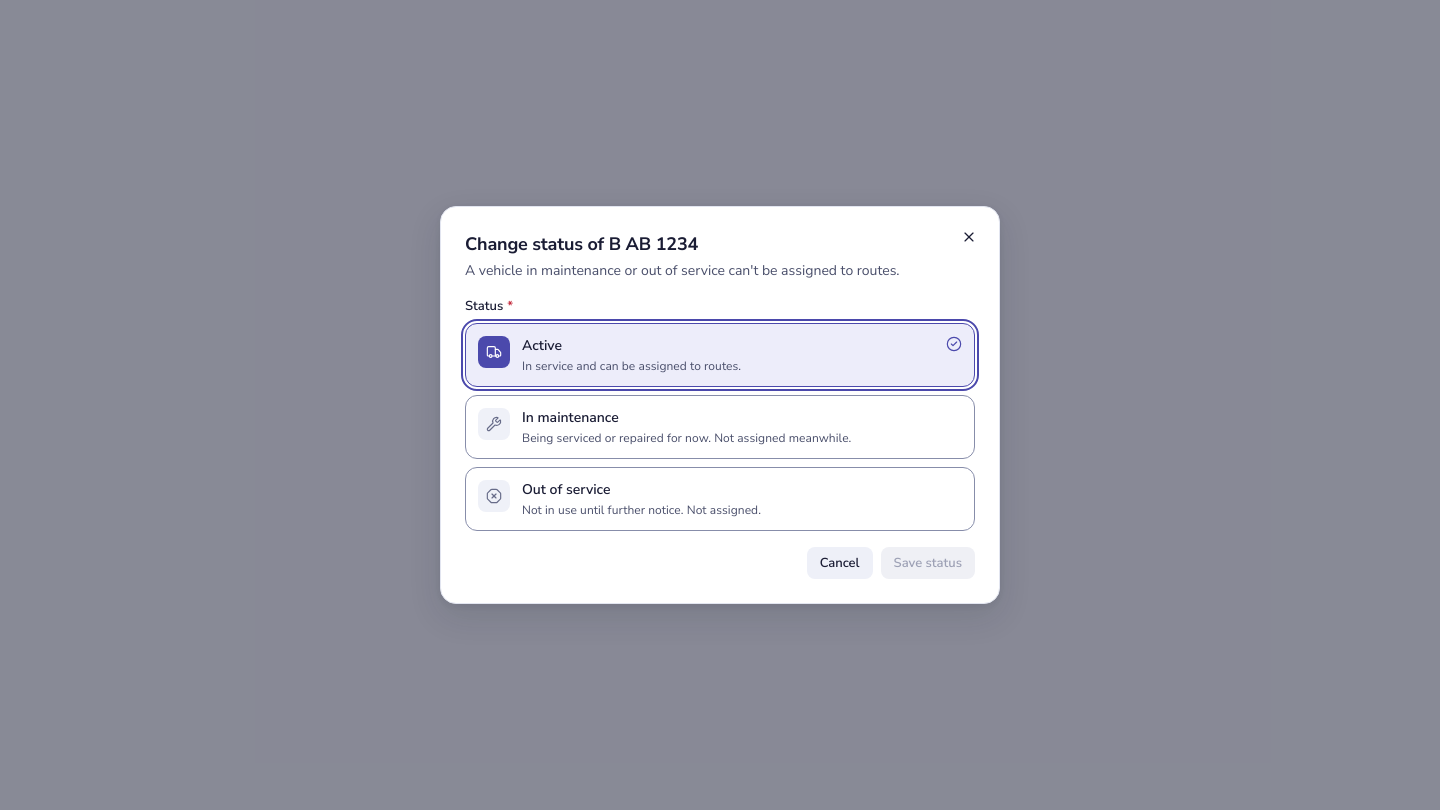
Test: VehicleStatusDialog › asks for a reason in maintenance and out of service only, and counts the characters
The width and height of the screenshot is (1440, 810).
expect the field labelled "Reason" is not shown: met
Click the radio button labelled "In maintenance" at (720, 427), box [465,395,975,459]
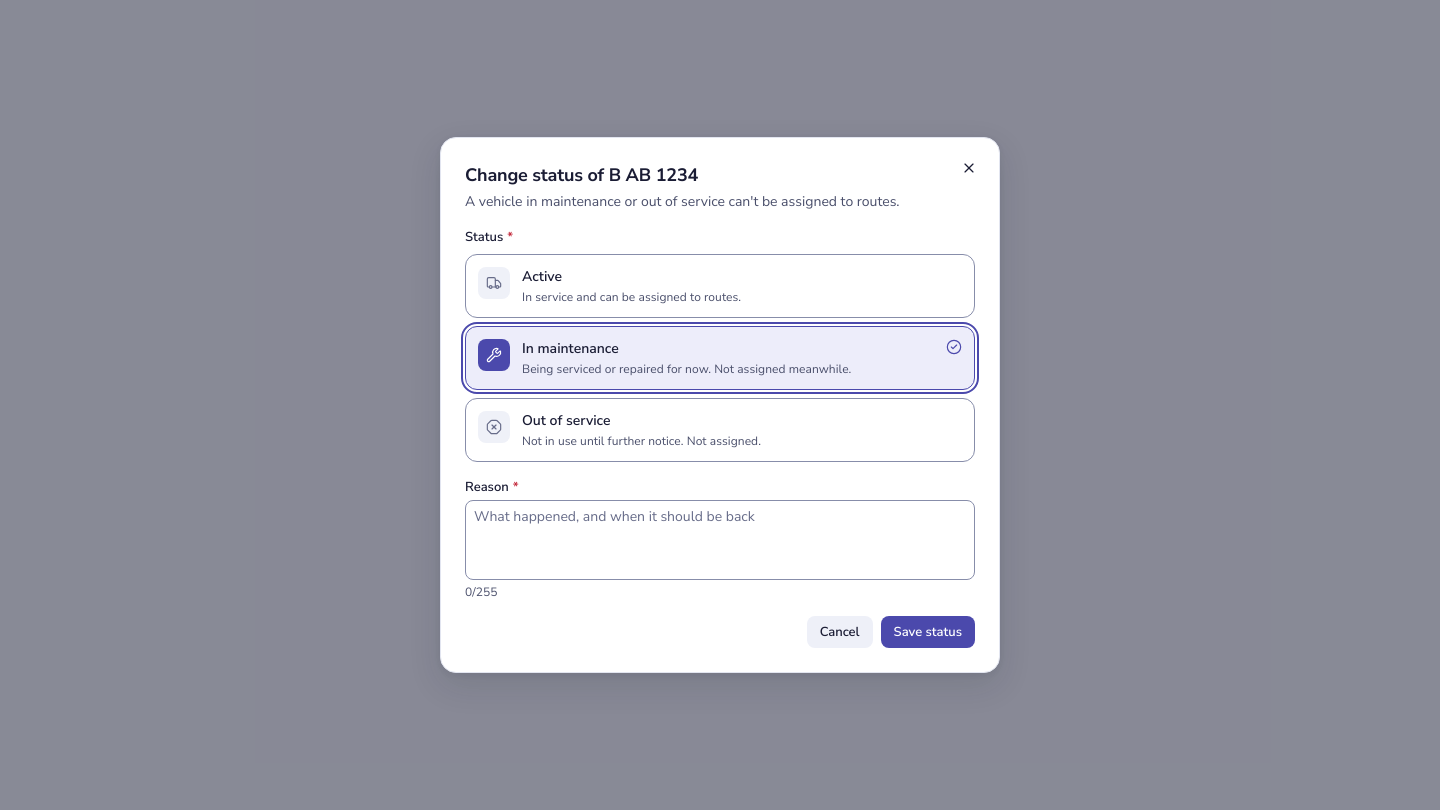
expect the text "0/255" is shown: met, box [465,584,498,600]
Type "Brakes" into the text box labelled "Reason*" at (720, 540), box [465,500,975,580]
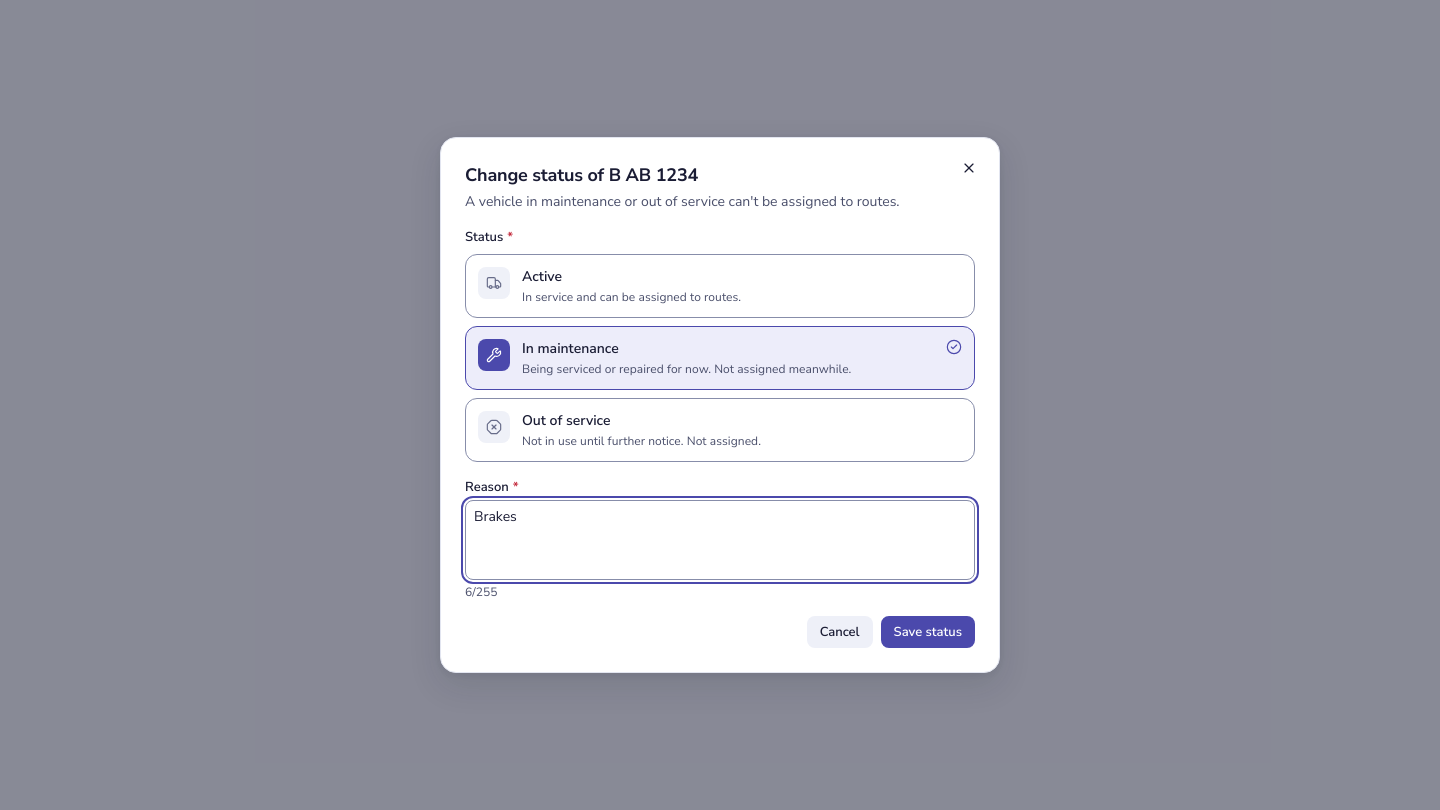
expect the text "6/255" is shown: met, box [465,584,498,600]
Click the radio button labelled "Active In service and can be assigned to routes." at (720, 286), box [465,254,975,318]
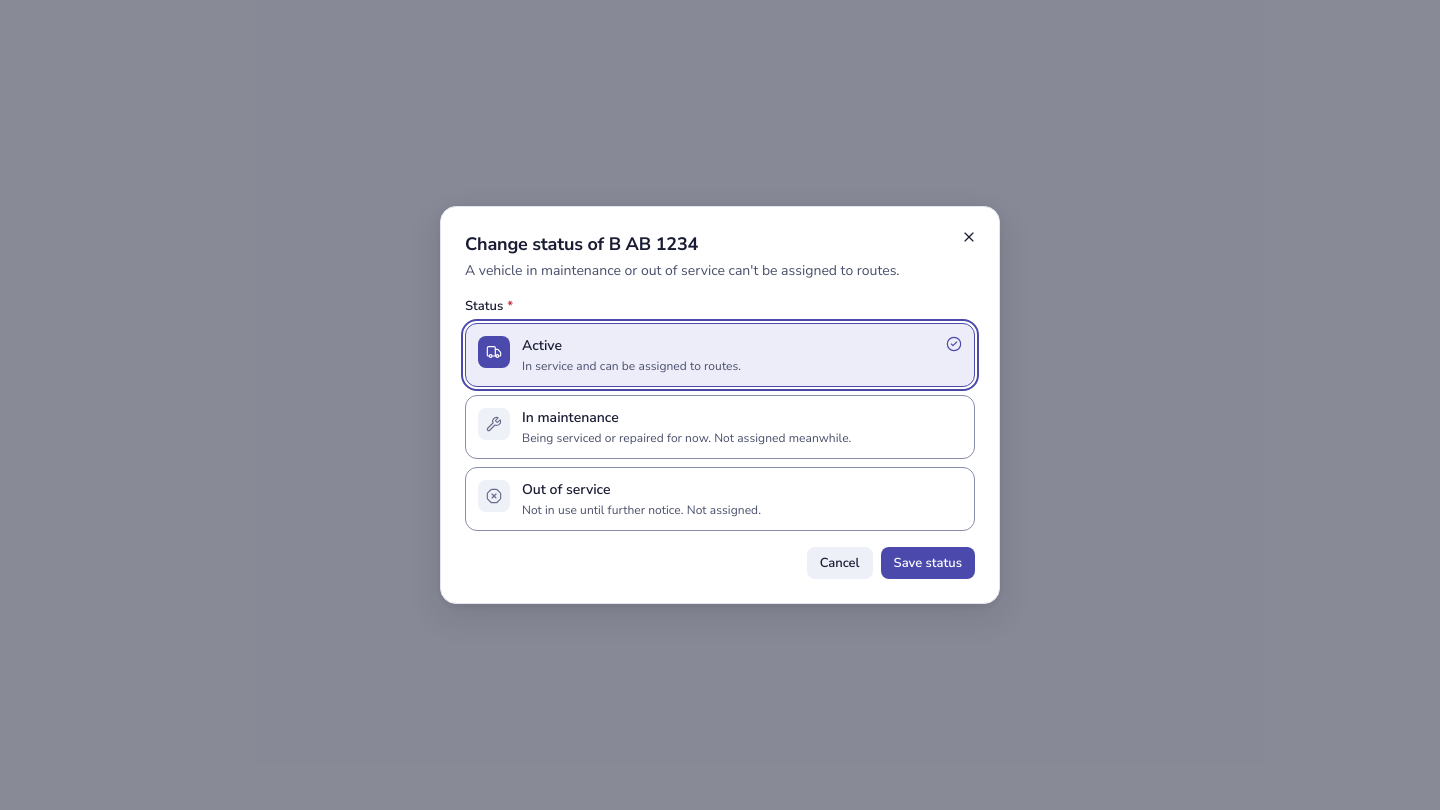
expect the field labelled "Reason" is gone: met
